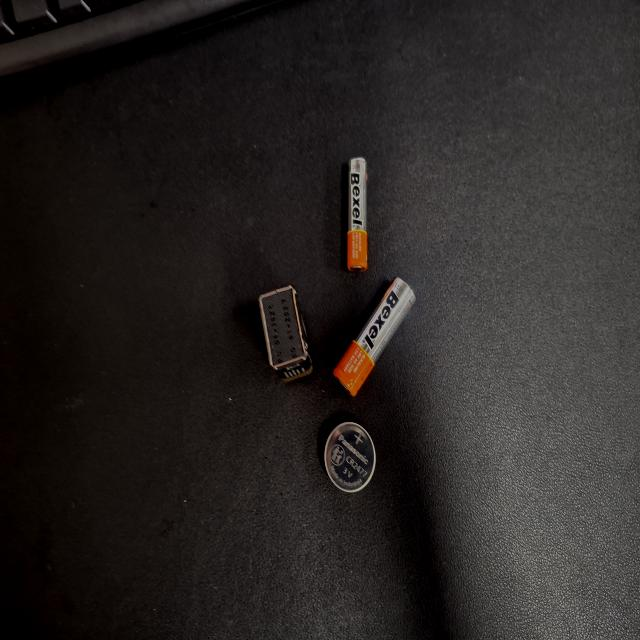9V: (195, 346, 265, 416)
AA: (183, 444, 271, 554)
AAA: (276, 462, 362, 490)
COIN: (111, 432, 163, 502)
